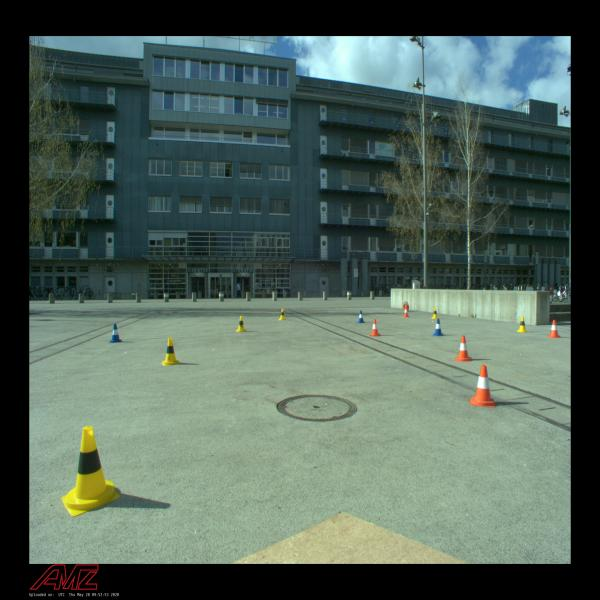blue_cone: (109, 323, 122, 343), (432, 319, 444, 336), (357, 310, 365, 324)
orange_cone: (470, 365, 496, 408), (455, 335, 472, 362), (548, 320, 560, 338), (370, 319, 380, 336), (402, 306, 410, 318)
yellow_cone: (62, 426, 120, 516), (162, 338, 180, 366), (236, 315, 247, 332), (516, 317, 528, 332), (431, 307, 439, 319), (279, 308, 286, 320)
